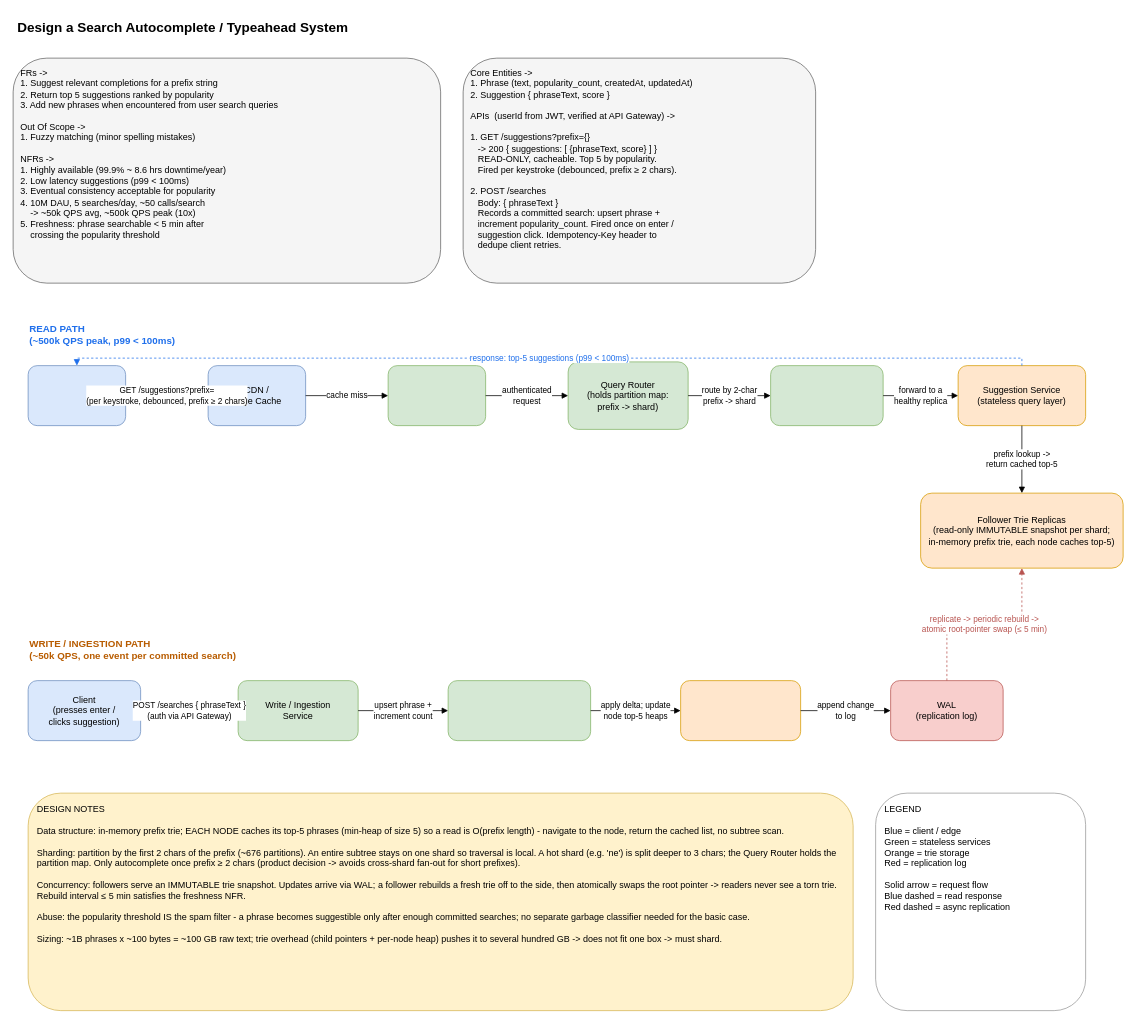
Image size: 1136x1024. Some labels were removed from this diagram. The shapes that lost their labels are listed below. From the top down, each one's box as (x1, y1, x2, y2) in pixels, then its label:
(27, 365, 126, 426): Client (keystroke)
(387, 365, 486, 426): API Gateway (JWT auth, rate limiting)
(770, 365, 883, 426): Shard Load Balancer (across replicas)
(447, 680, 591, 741): Popularity Counter Store (phrase -> count)
(680, 680, 801, 741): Leader Trie (per shard, writable)
